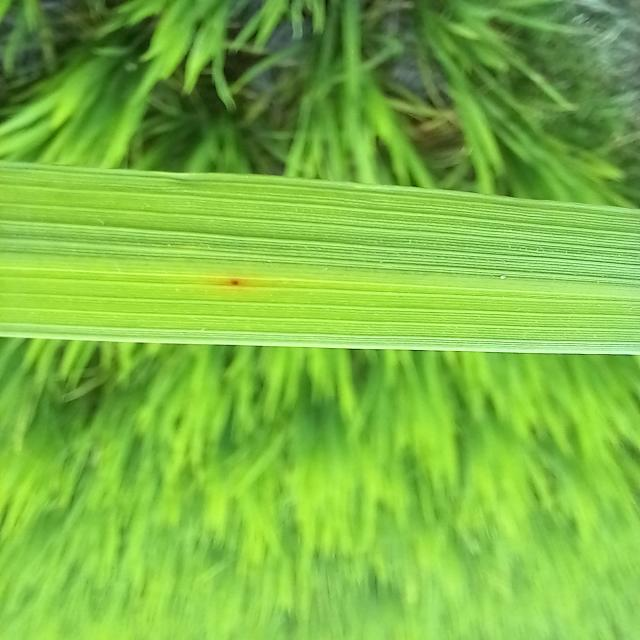Brown_Spot: (215, 272, 256, 293)
